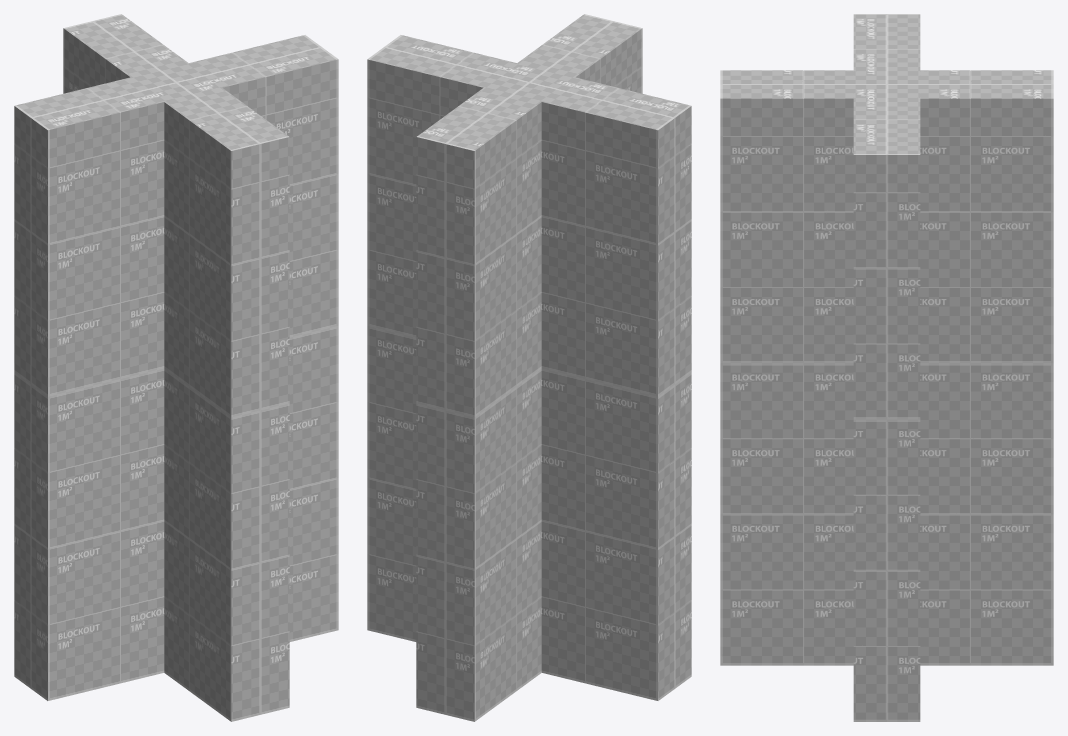
File: BlockoutThickJunctionFourWay.fbx
3 views of the same model, side by side, from view 1: azimuth 30°, elevation 25°; view 2: azimuth 150°, elevation 25°; view 3: azimuth 270°, elevation 25° (orthographic).
Visible parts, largest first — view 1: BlockoutThickJunctionFourWay; view 2: BlockoutThickJunctionFourWay; view 3: BlockoutThickJunctionFourWay.
Boxes of the visible parts, x1,y1,x2,y2 form: BlockoutThickJunctionFourWay: (14, 14, 338, 721); BlockoutThickJunctionFourWay: (367, 14, 691, 721); BlockoutThickJunctionFourWay: (720, 14, 1053, 721).
Size of the model in its own units: 400 by 750 by 400.
